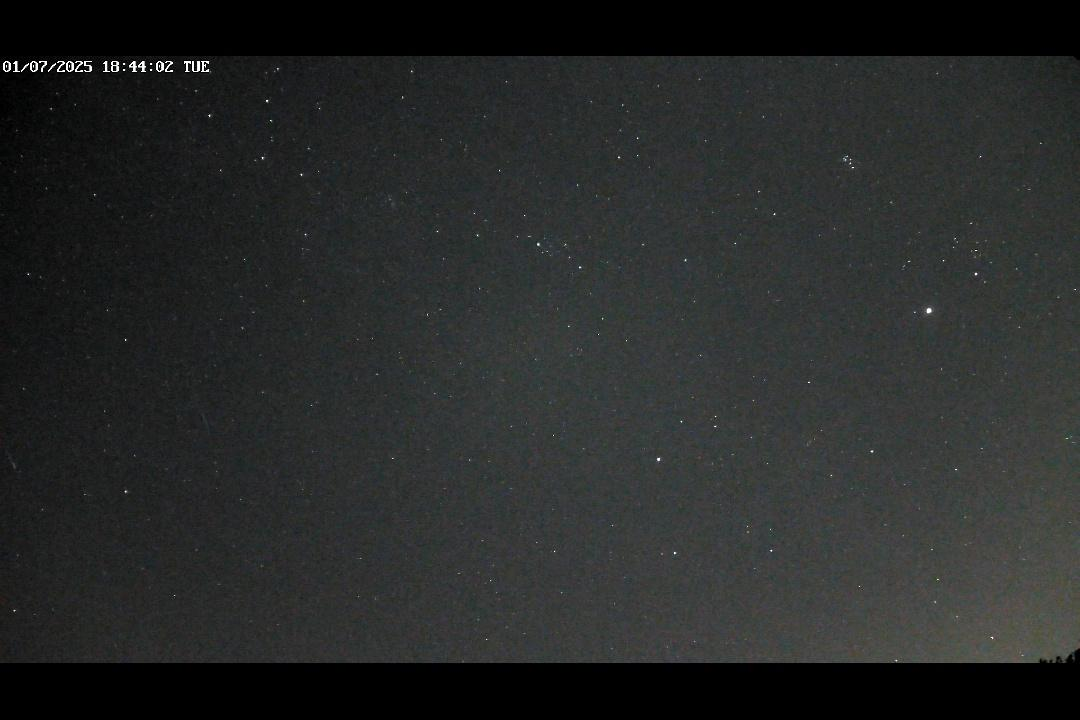Plane: (192, 404, 219, 443), (0, 447, 26, 473)
